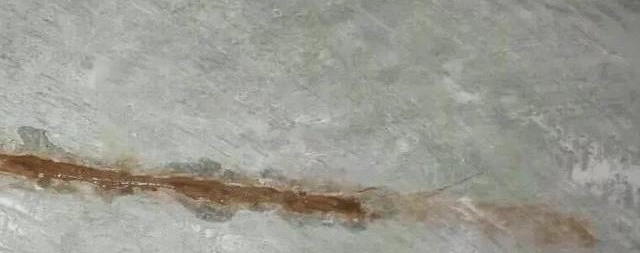Exposed reinforcement: (1, 153, 366, 217)
